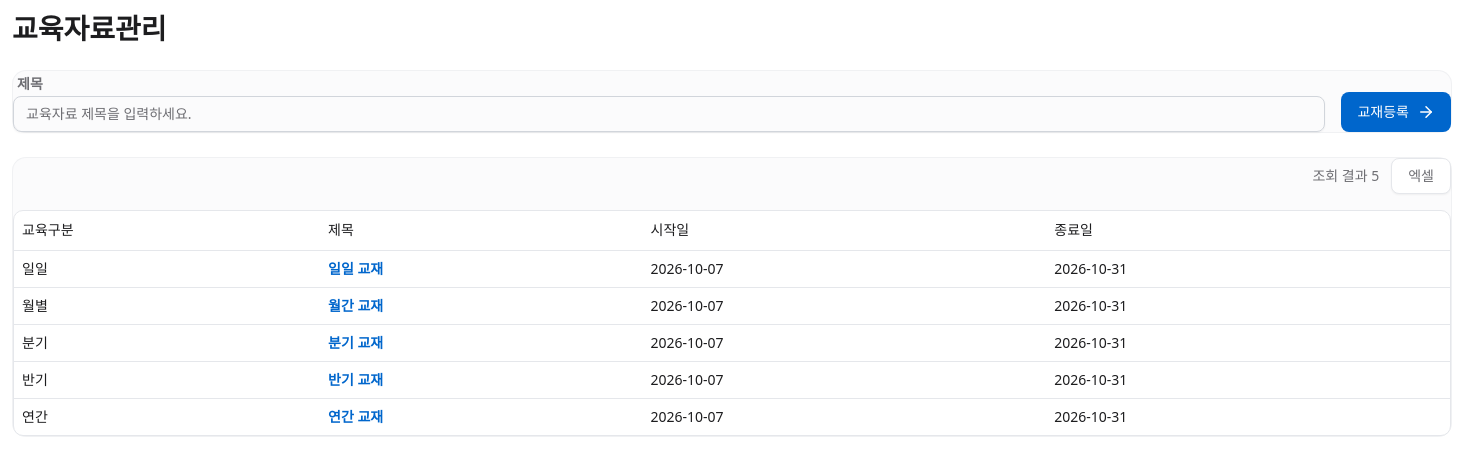
Test case: education resources list › shows dates and categories in the requested order without fetching completion counts
Check: the link "일일 교재" is shown, box [328, 259, 383, 278]
Check: the column headings read "교육구분", "제목", "시작일", "종료일", in this order, box [14, 211, 320, 251]; [320, 211, 642, 251]; [642, 211, 1046, 251]; [1046, 211, 1450, 251]
Type "미등록" into the field labelled "제목" at (669, 114), box [13, 96, 1326, 132]
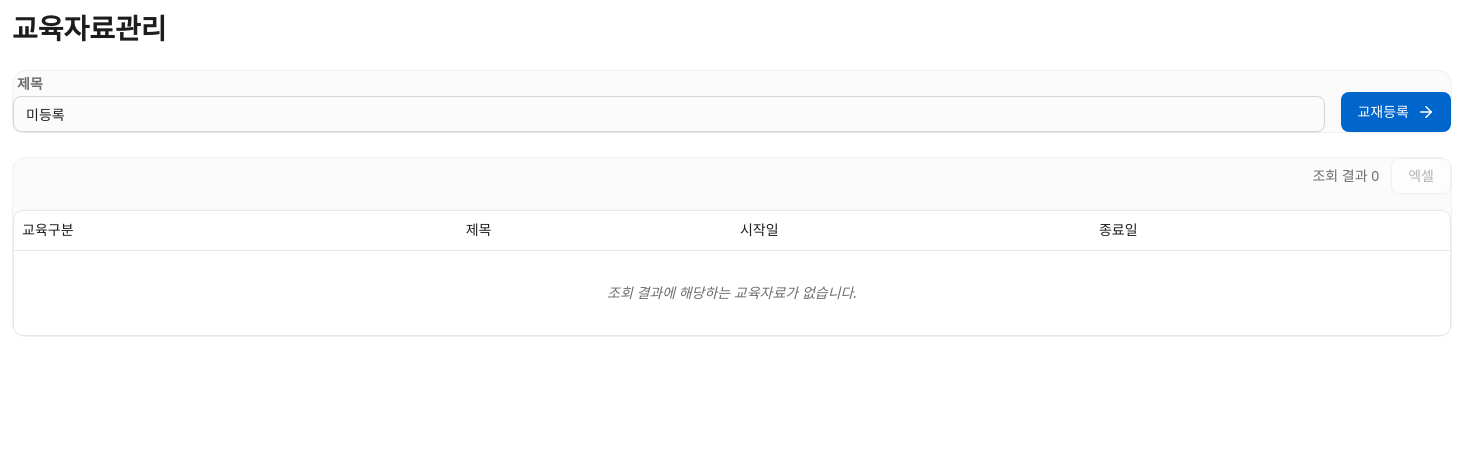
Check: the text "조회 결과에 해당하는 교육자료가 없습니다." is shown, box [14, 251, 1450, 335]
